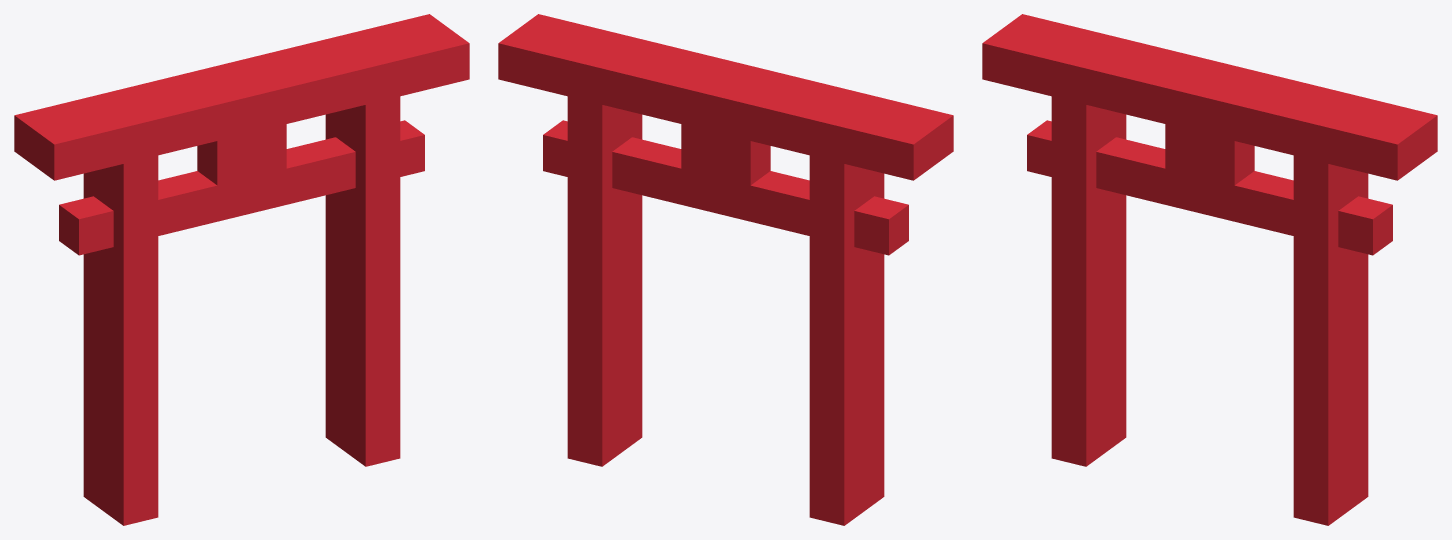
Rendered from portalgate.fbx.
The picture shows the model from 3 angles, left to right: view 1: azimuth 30°, elevation 25°; view 2: azimuth 150°, elevation 25°; view 3: azimuth 330°, elevation 25°; orthographic projection.
Visible parts, largest first — view 1: Cube.000; view 2: Cube.000; view 3: Cube.000.
Part boxes in pixels (x1,y1,x2,y2): Cube.000: (14,14,469,525); Cube.000: (498,14,953,525); Cube.000: (982,14,1437,525).
Size of the model in its own units: 100 by 600 by 550.
